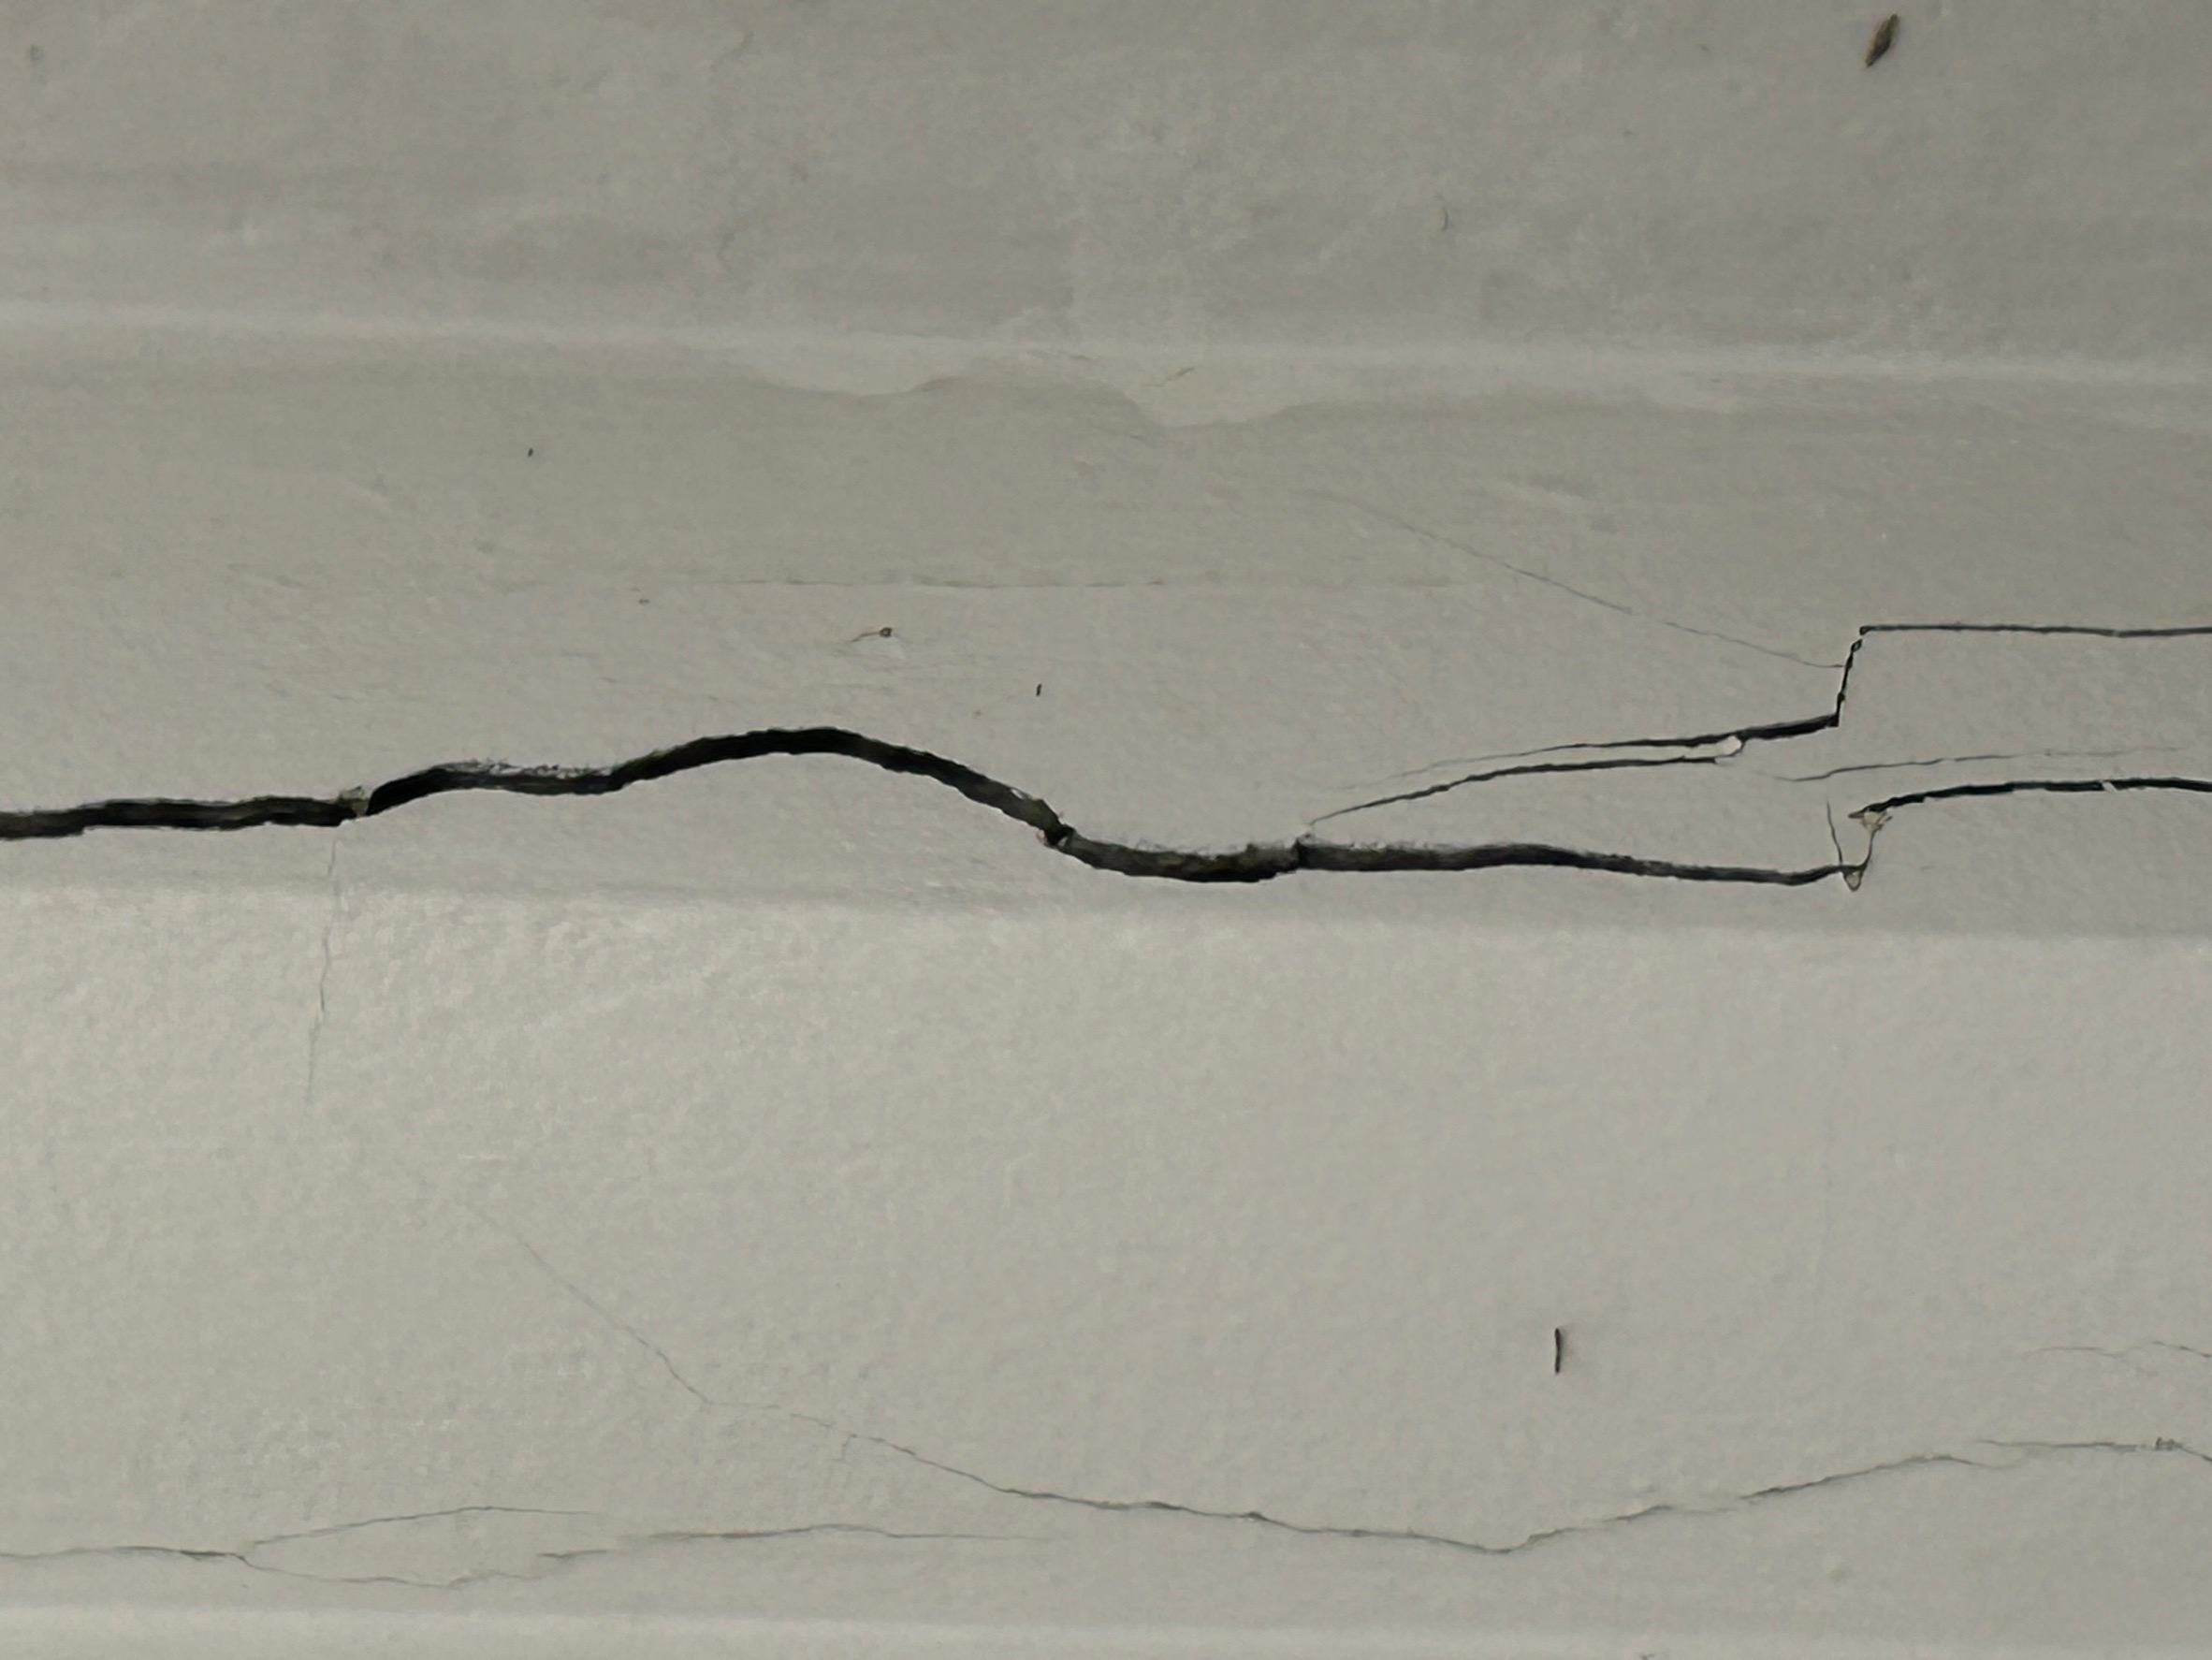High: (7, 570, 2210, 1055)
